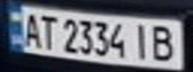2: (57, 16, 78, 53)
3: (90, 19, 112, 57), (75, 17, 93, 56)
4: (106, 19, 130, 60)
A: (18, 9, 42, 48)
B: (148, 21, 184, 63)
I: (127, 20, 157, 61)
T: (36, 11, 60, 51)
